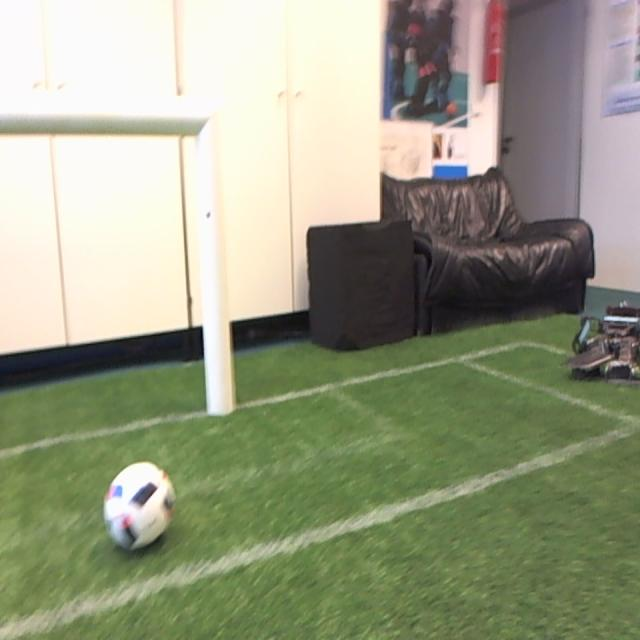ball: (105, 459, 176, 548)
goalpost: (197, 111, 232, 414)
